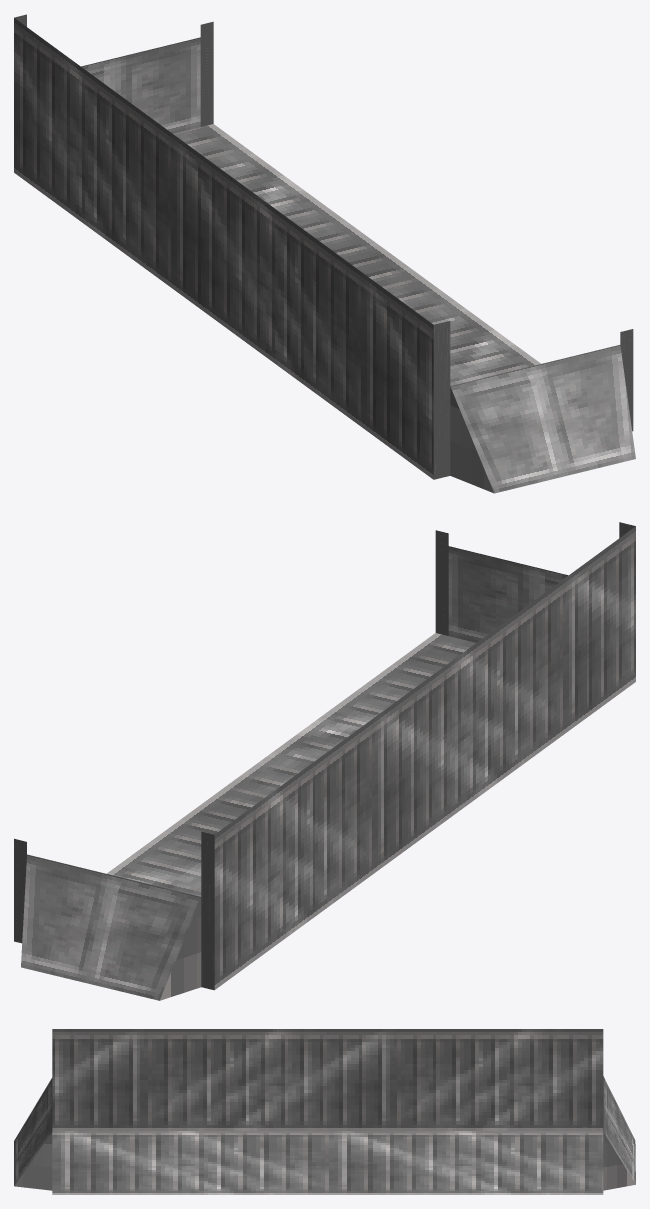
File: DownTown_Lift_01.FBX
3 views of the same model, one above another, from view 1: azimuth 30°, elevation 25°; view 2: azimuth 150°, elevation 25°; view 3: azimuth 270°, elevation 25° (orthographic). The views are drawn at different scales.
Parts seen in each view (by area): view 1: SkyScrapper_Lift; view 2: SkyScrapper_Lift; view 3: SkyScrapper_Lift.
Part boxes in pixels (x1=…): SkyScrapper_Lift: x1=14, y1=14, x2=635, y2=493; SkyScrapper_Lift: x1=14, y1=522, x2=635, y2=1000; SkyScrapper_Lift: x1=14, y1=1029, x2=635, y2=1194.
Bounding box in the file's own units: 206 × 153 × 848.
